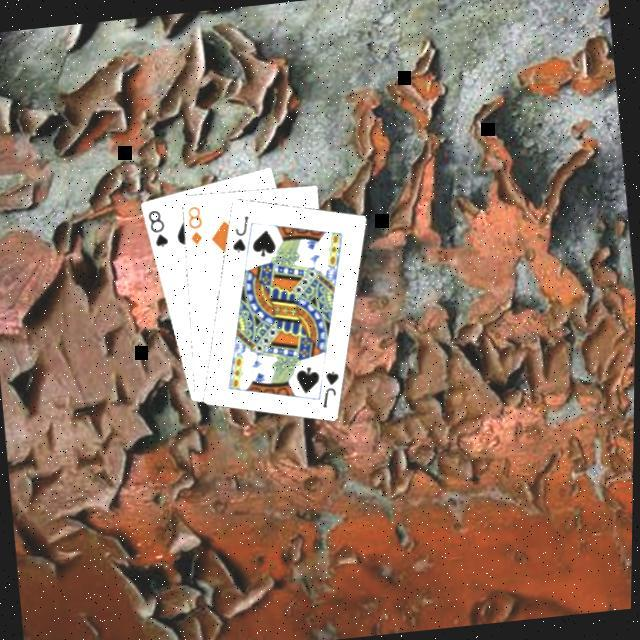8D: (181, 203, 207, 250)
8S: (142, 207, 170, 253)
JS: (224, 214, 254, 258), (314, 368, 344, 412)
